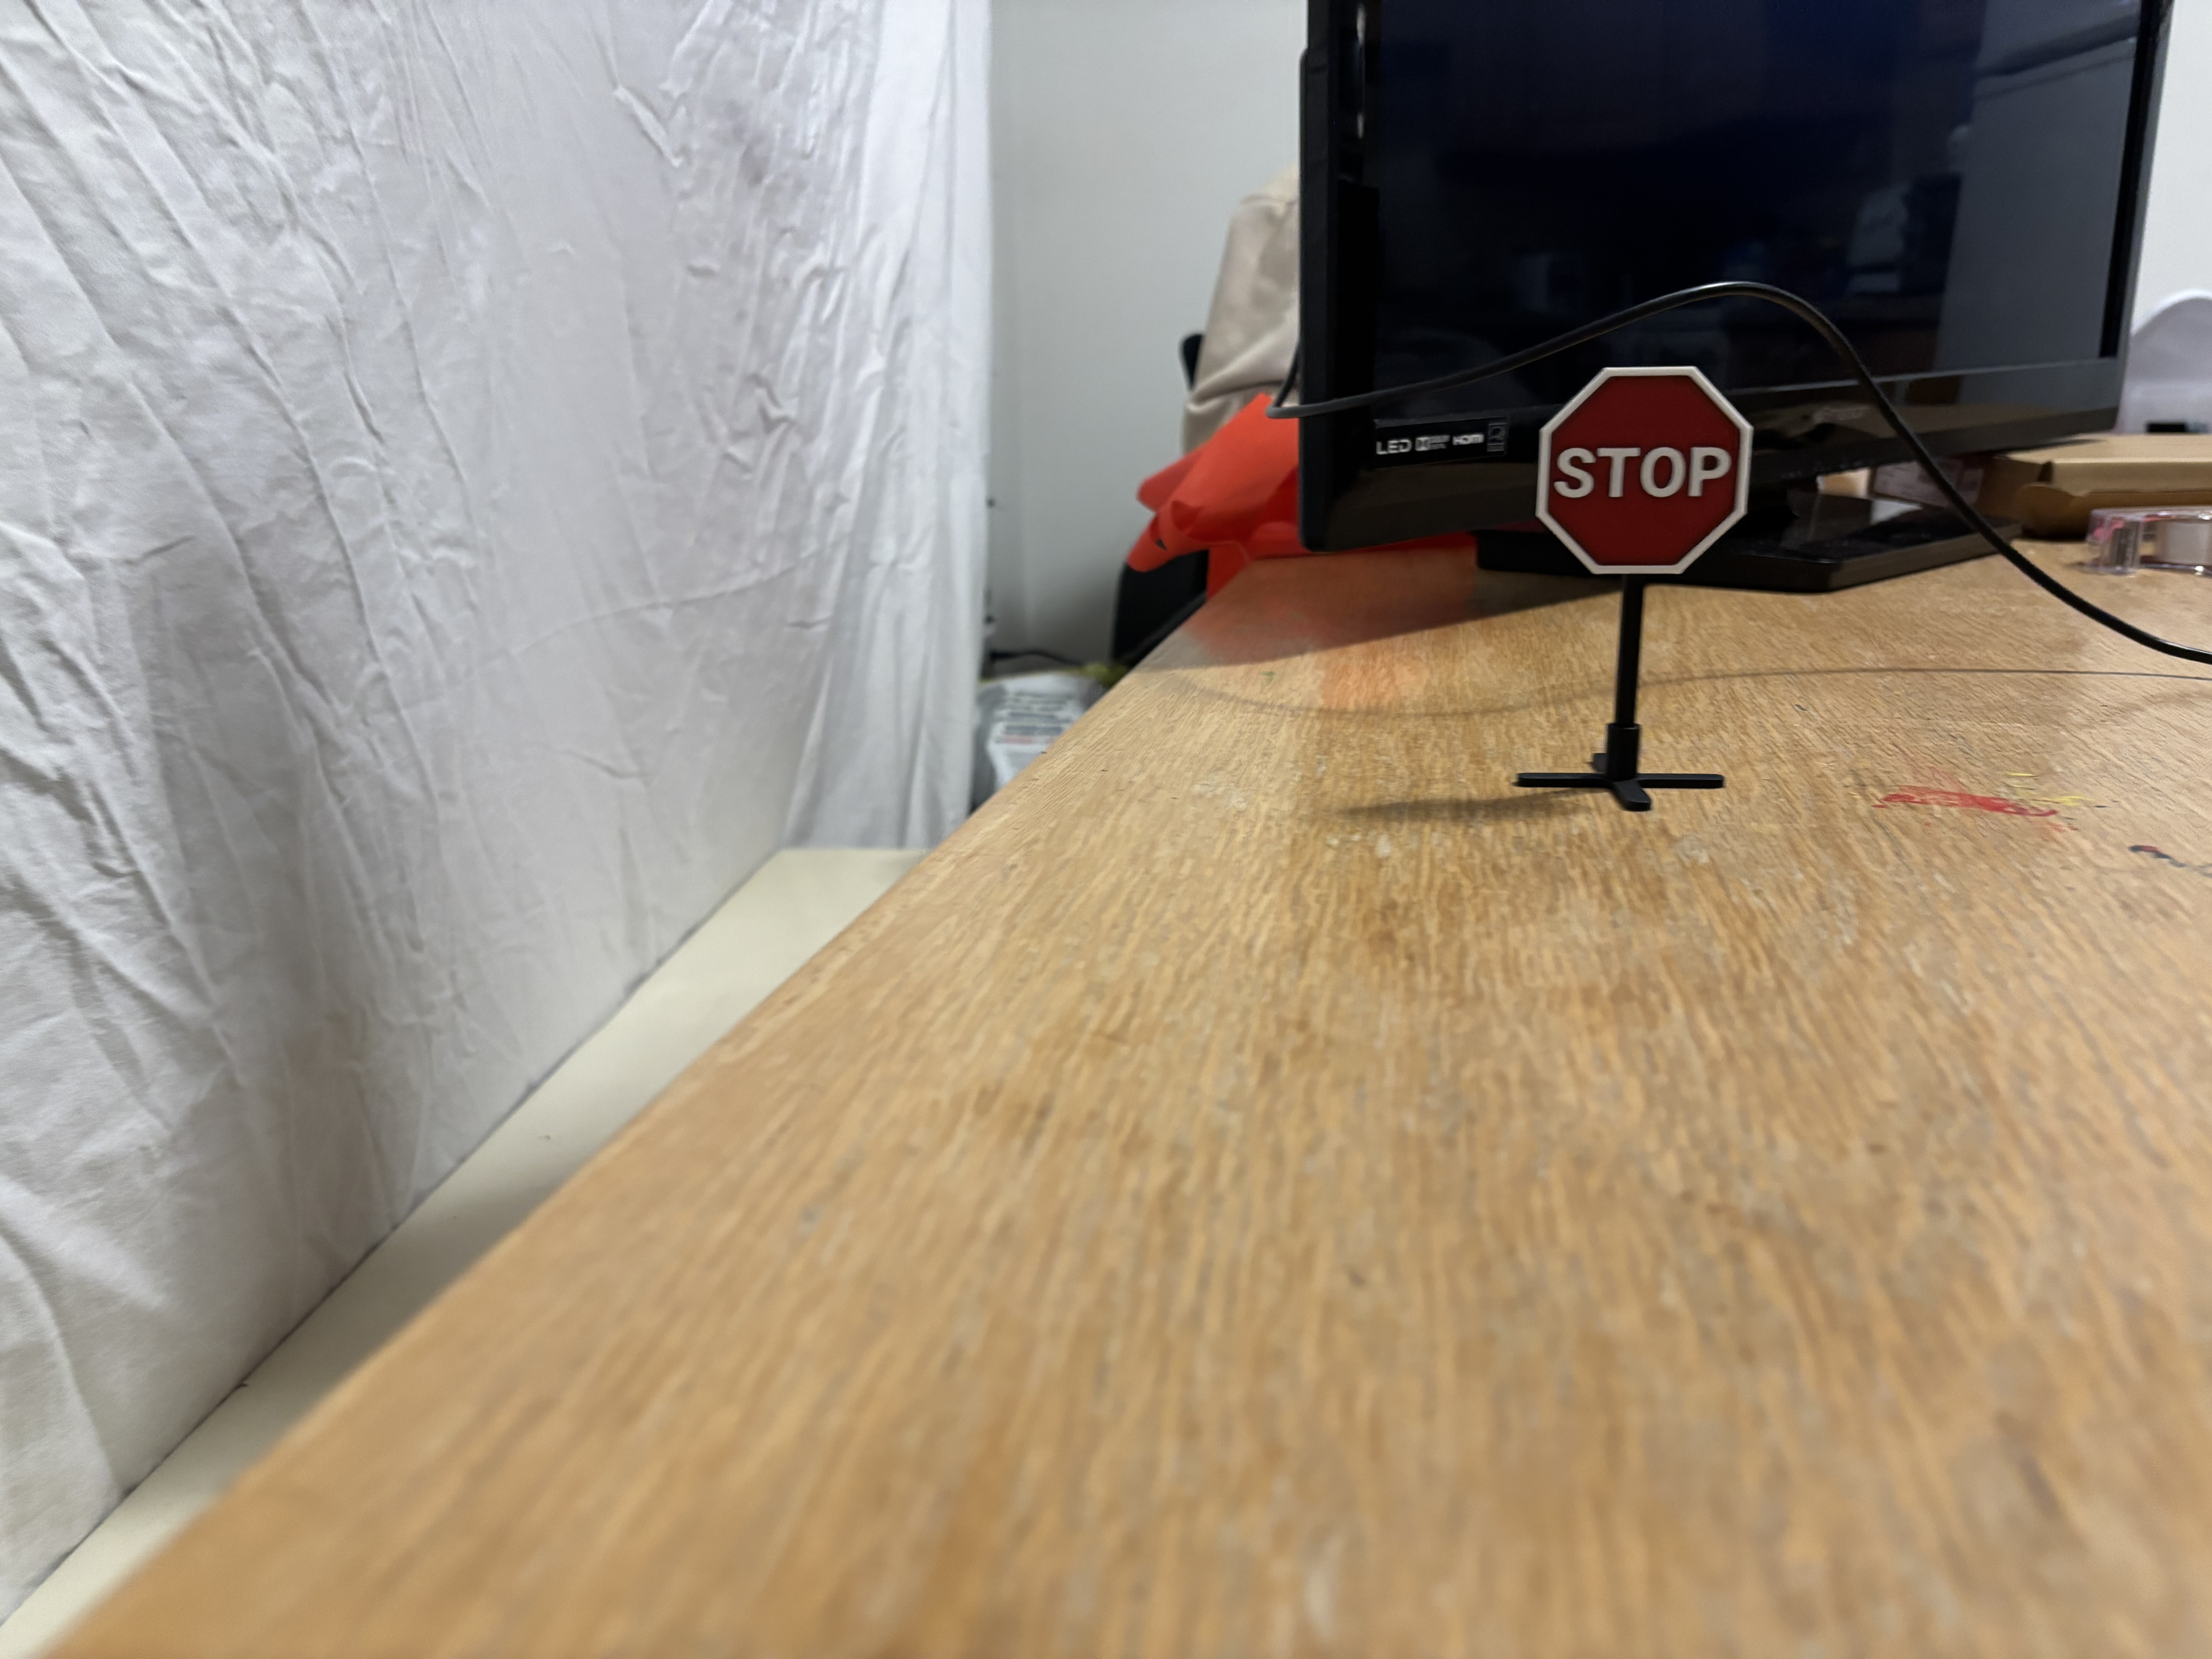sign_stop: (1531, 359, 1764, 596)
